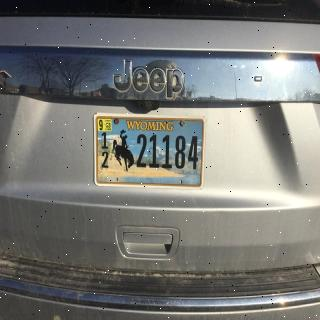license: (94, 114, 208, 191)
